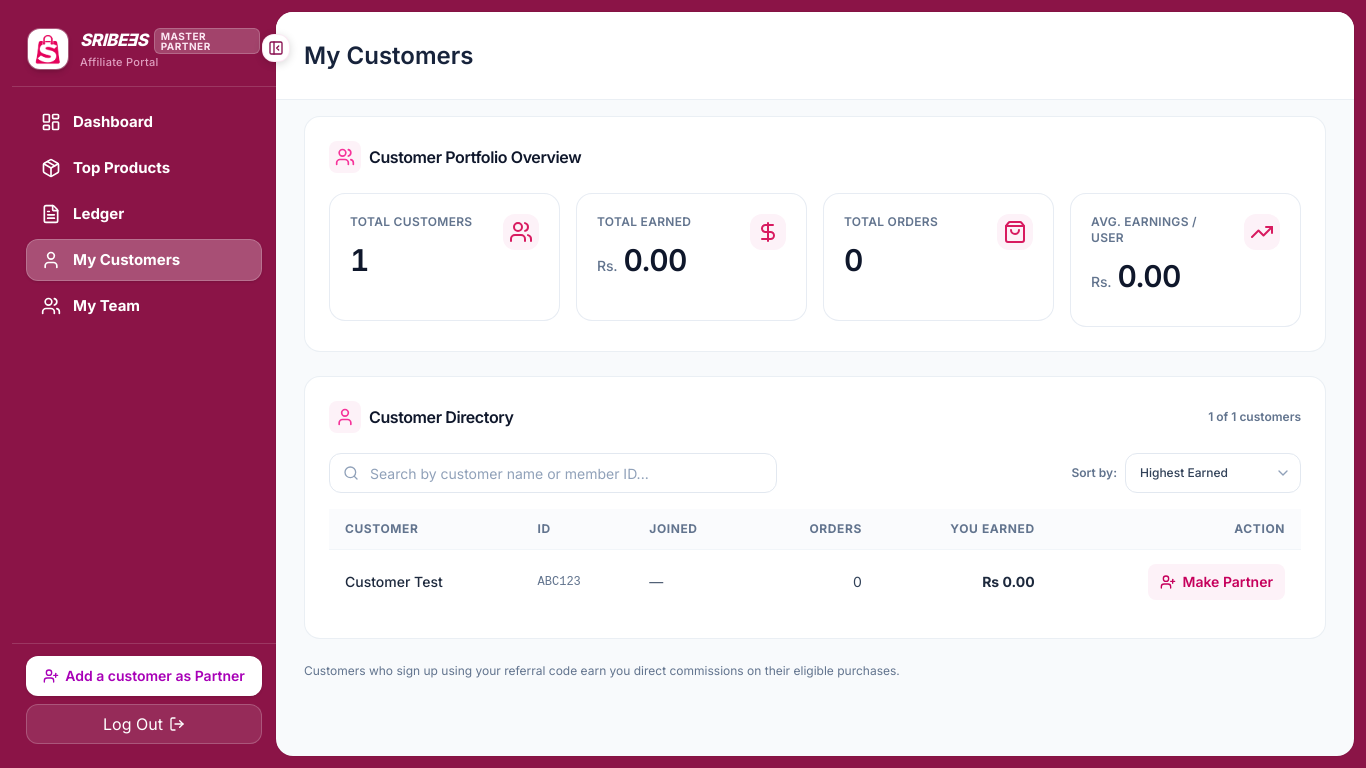
Scenario: customer invitation channels › reports SMS=true and email=true accurately
This screenshot has width=1366, height=768.
Click the button "Make Partner".
click(1217, 582)  # box [1148,564,1285,600]
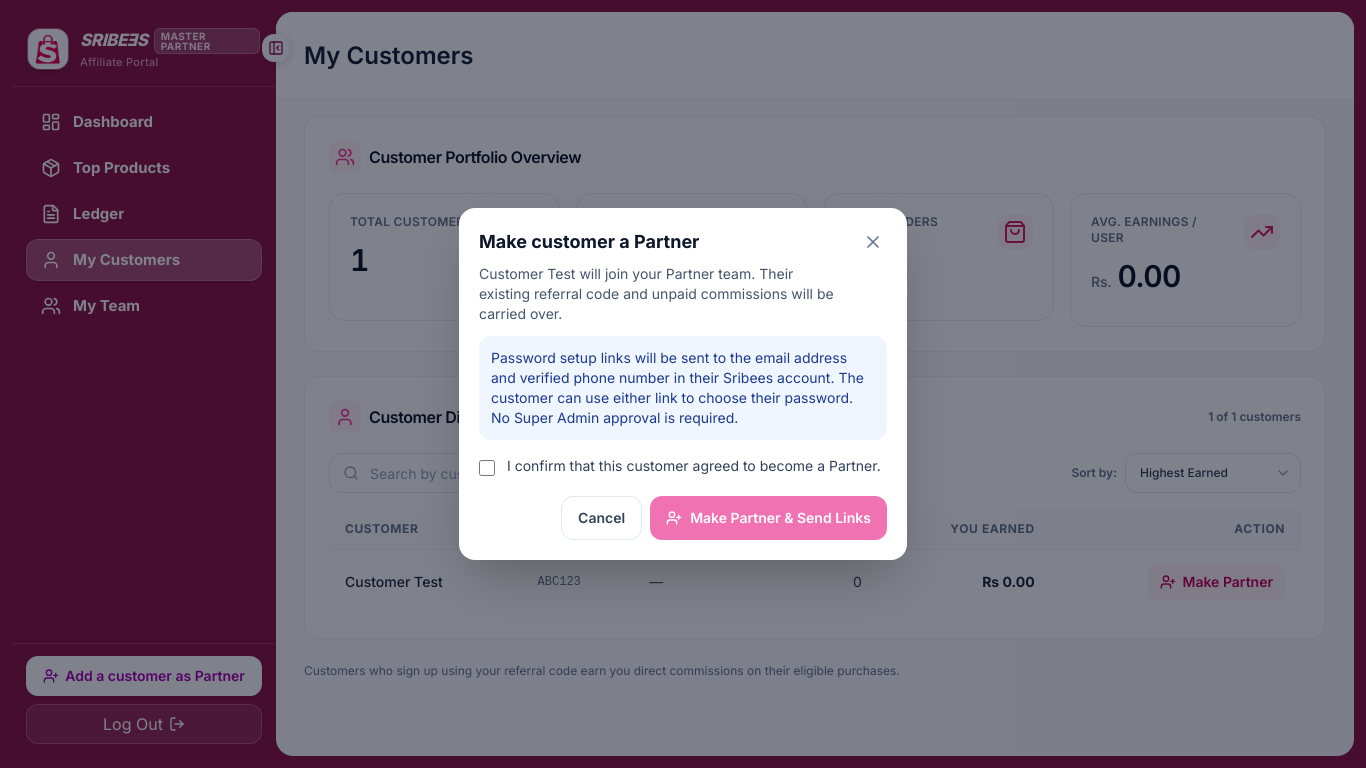
Click the checkbox.
click(487, 468)  # box [479,460,495,476]
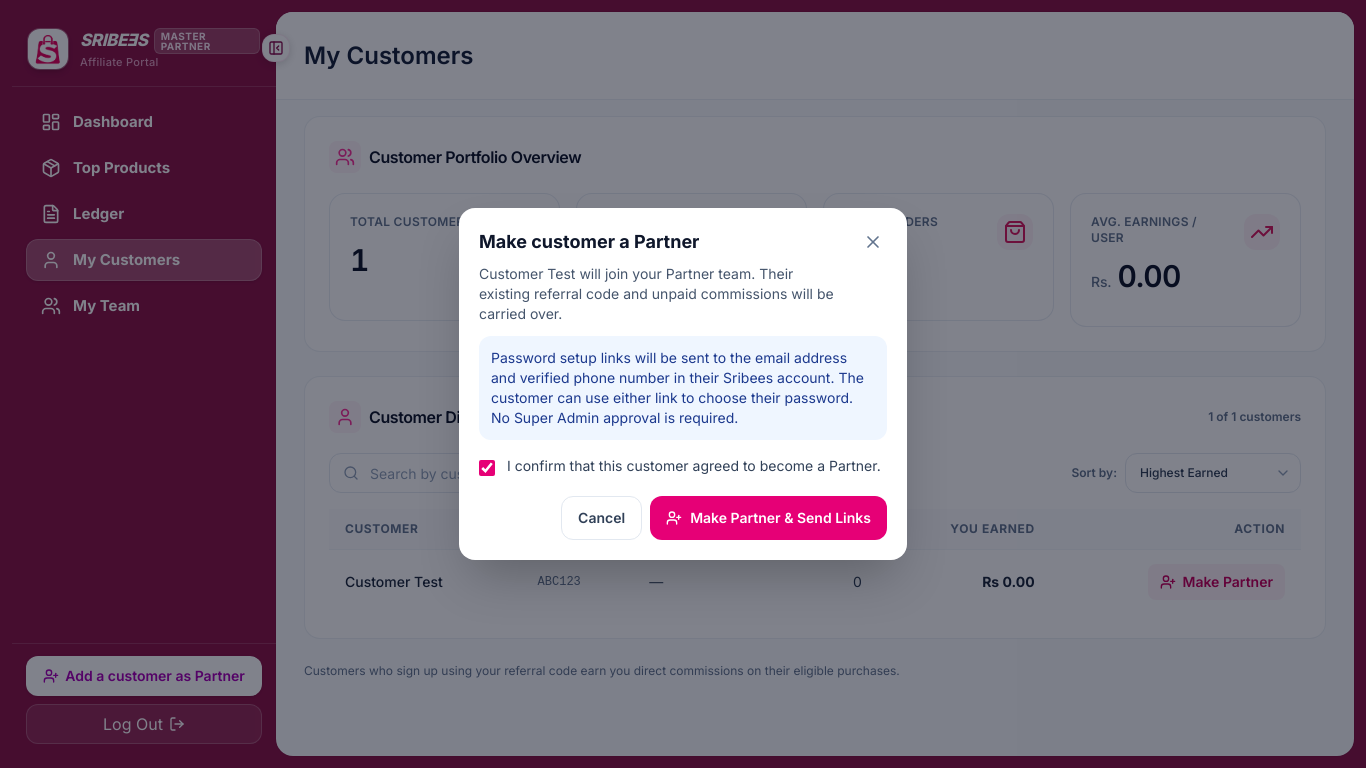
Click the button "Make Partner & Send Links".
click(769, 518)  # box [650,496,887,540]
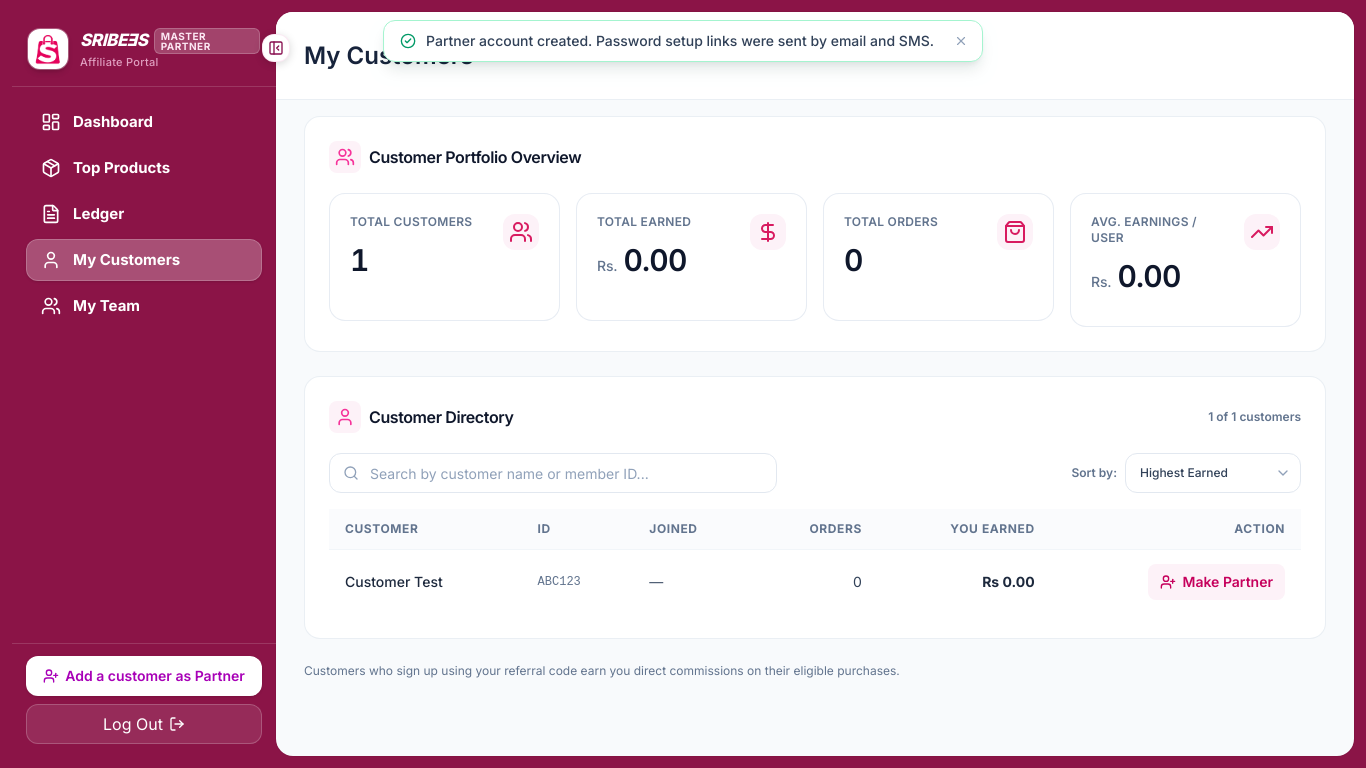
Expected: the text "Partner account created. Password setup links were sent by email and SMS." is shown, [426,31,934,51]
